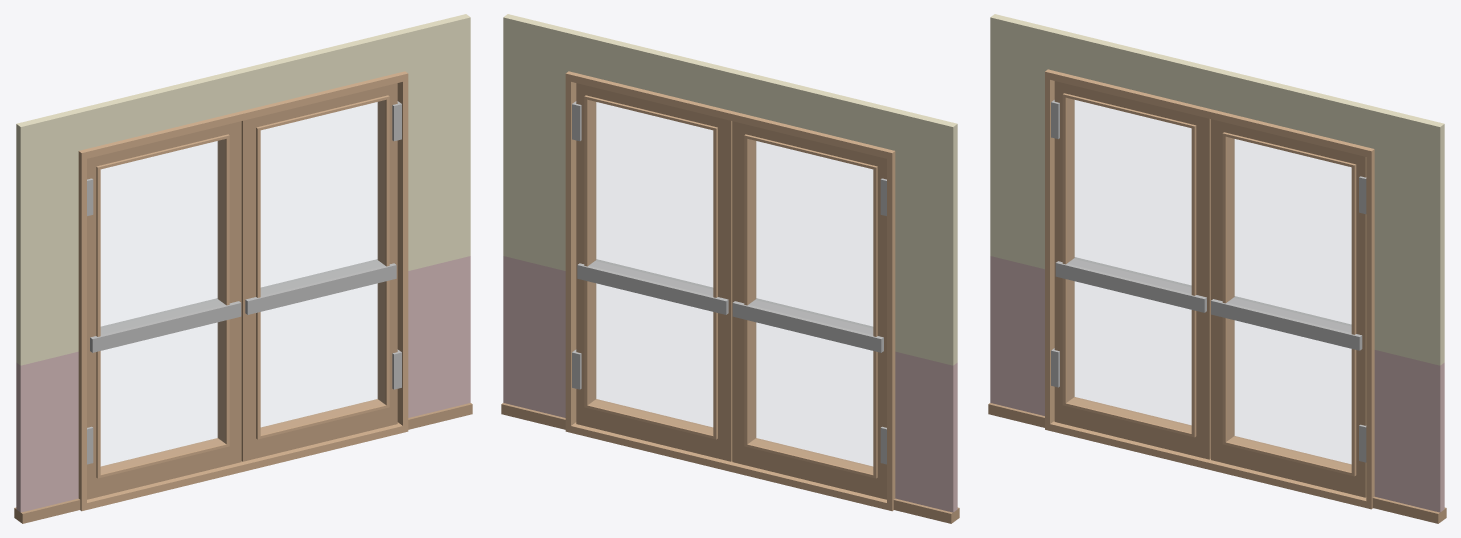
The model's file is front door_1.fbx.
3 views of the same model, side by side, from view 1: azimuth 30°, elevation 25°; view 2: azimuth 150°, elevation 25°; view 3: azimuth 330°, elevation 25° (orthographic).
Parts seen in each view (by area): view 1: Boole, Cube_7, Cube_12; view 2: Boole, Cube_7, Cube_12; view 3: Boole, Cube_12, Cube_7.
Part boxes in pixels (bbox=[...]): Boole: bbox=[14, 14, 472, 523]; Cube_7: bbox=[241, 83, 401, 461]; Cube_12: bbox=[87, 121, 241, 499]; Boole: bbox=[501, 14, 959, 523]; Cube_7: bbox=[572, 83, 732, 461]; Cube_12: bbox=[732, 121, 886, 499]; Boole: bbox=[988, 14, 1446, 523]; Cube_12: bbox=[1051, 81, 1210, 459]; Cube_7: bbox=[1211, 119, 1366, 497].
Size of the model in its own units: 106 by 89.41 by 4.45.
